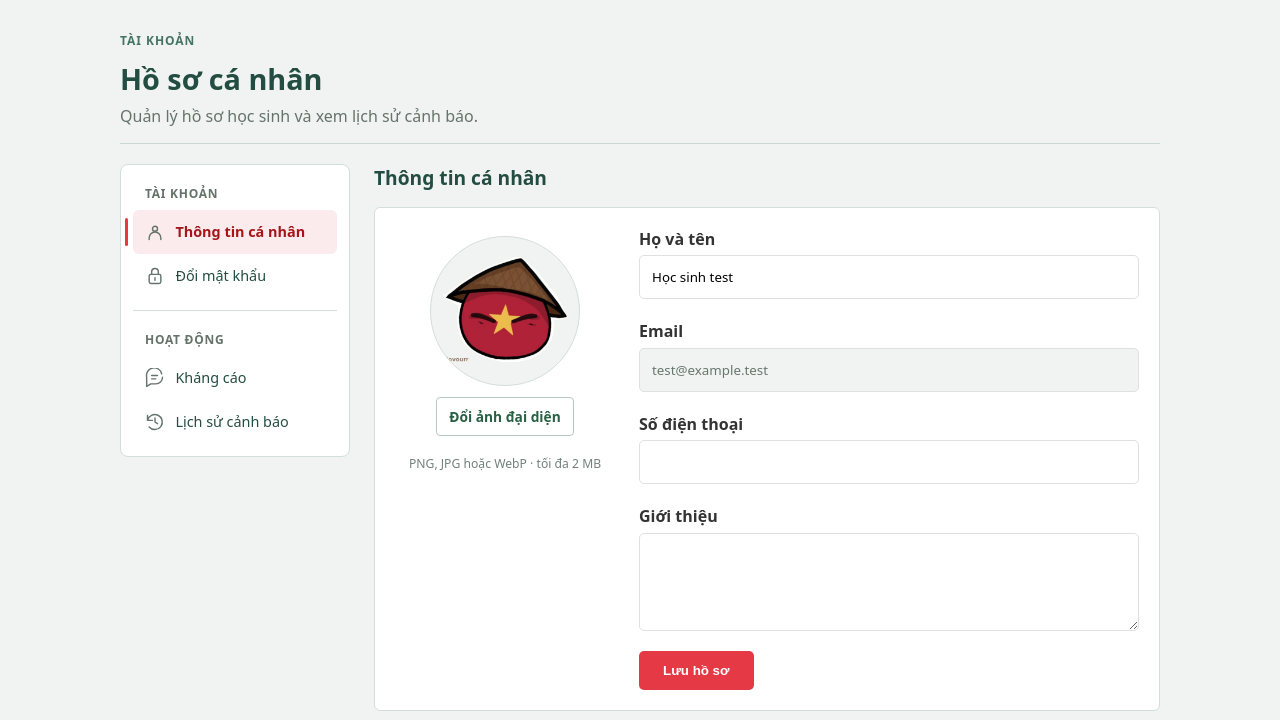
Test: profile renders independent accessible password fields and rejects mismatched confirmation
Expected: the field labelled "Họ và tên" holds "Học sinh test", left=639, top=255, right=1139, bottom=299
Click the button "Đổi mật khẩu". click: (235,276)
box: left=133, top=254, right=337, bottom=298
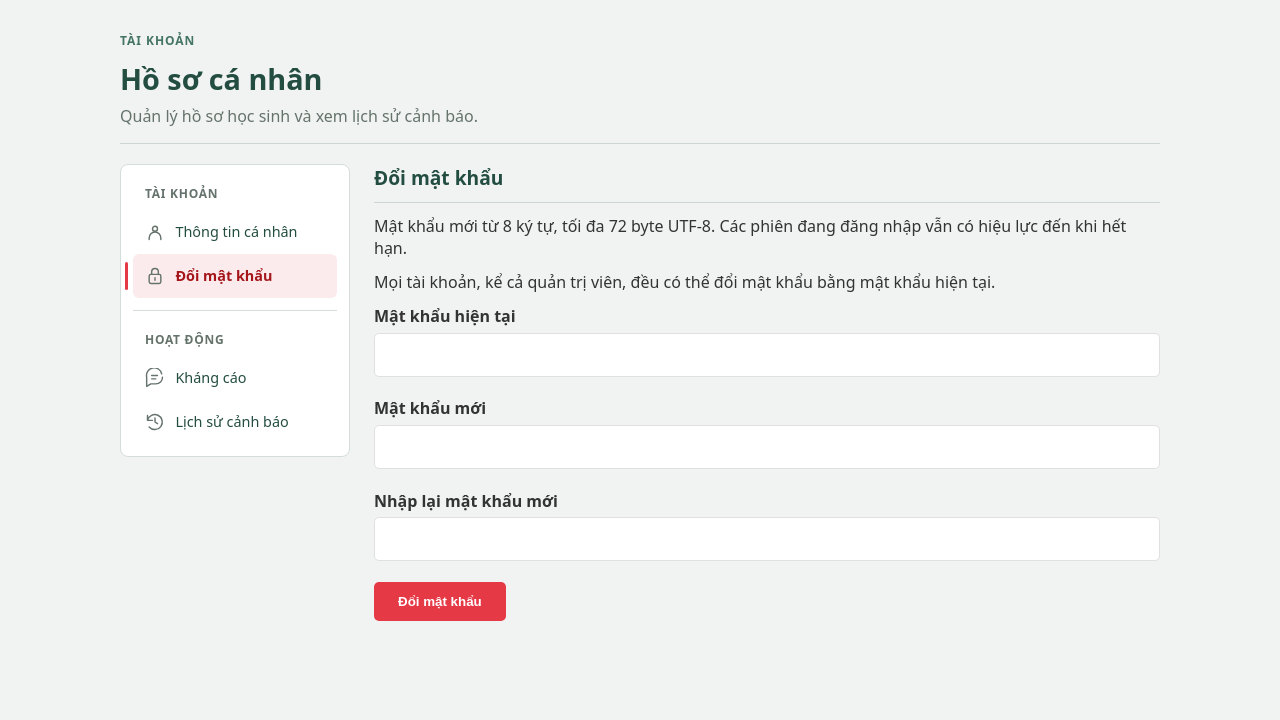
Type "Old-password!" into the password field named "currentPassword". click: (767,355)
box: left=374, top=333, right=1160, bottom=377
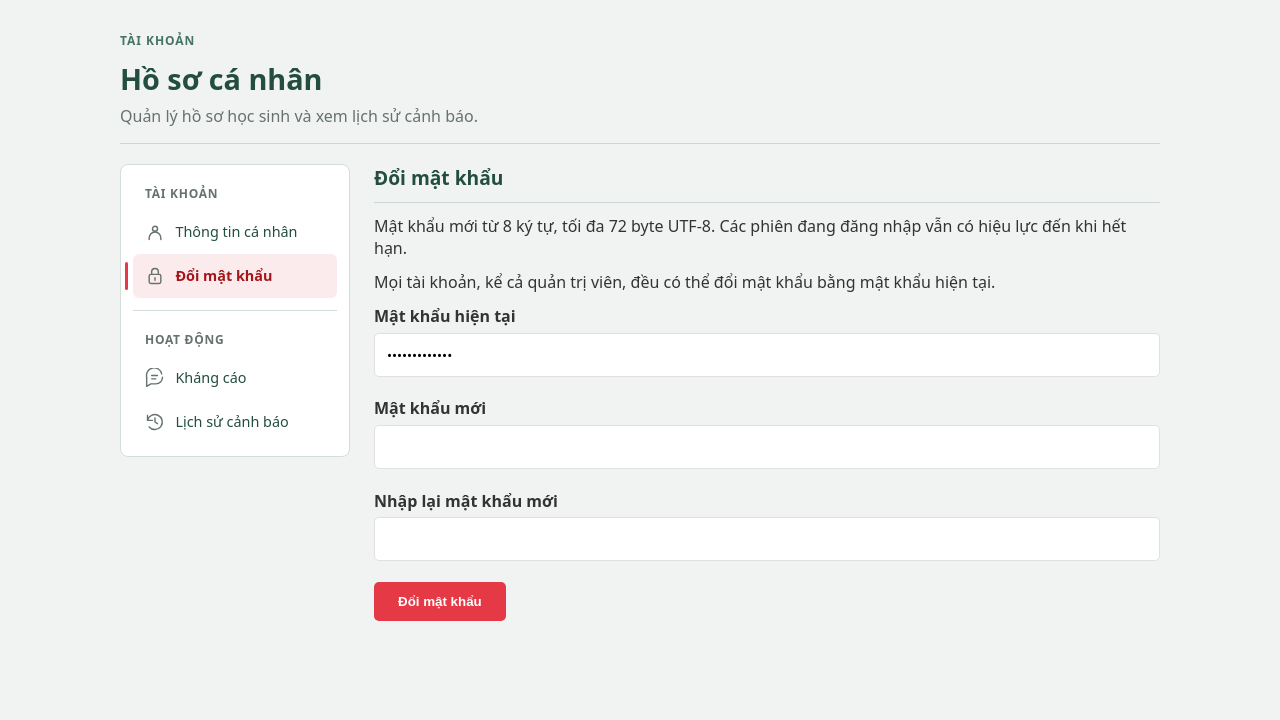
Type "New-password!" into the password field named "newPassword". click: (767,447)
box: left=374, top=425, right=1160, bottom=469
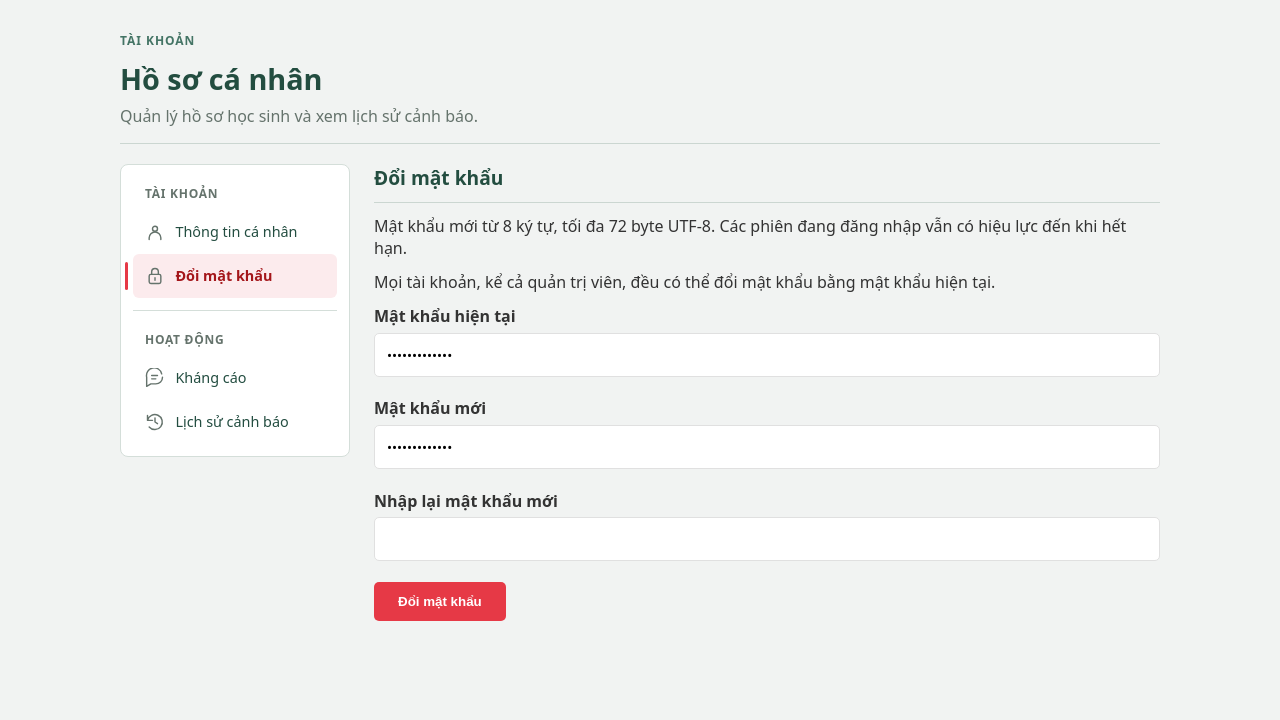
Type "Not matching!" into the password field labelled "Nhập lại mật khẩu mới". click: (767,539)
box: left=374, top=517, right=1160, bottom=561
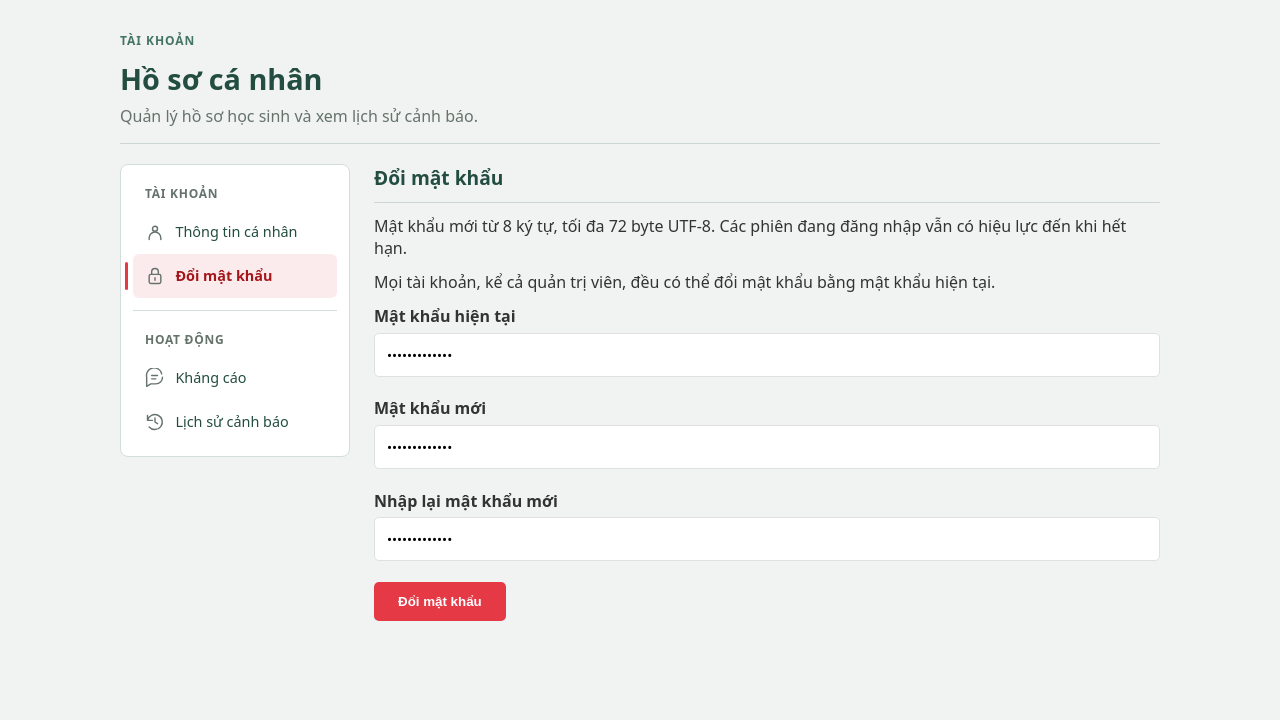
Submit the form named "Đổi mật khẩu", box left=374, top=305, right=1160, bottom=621
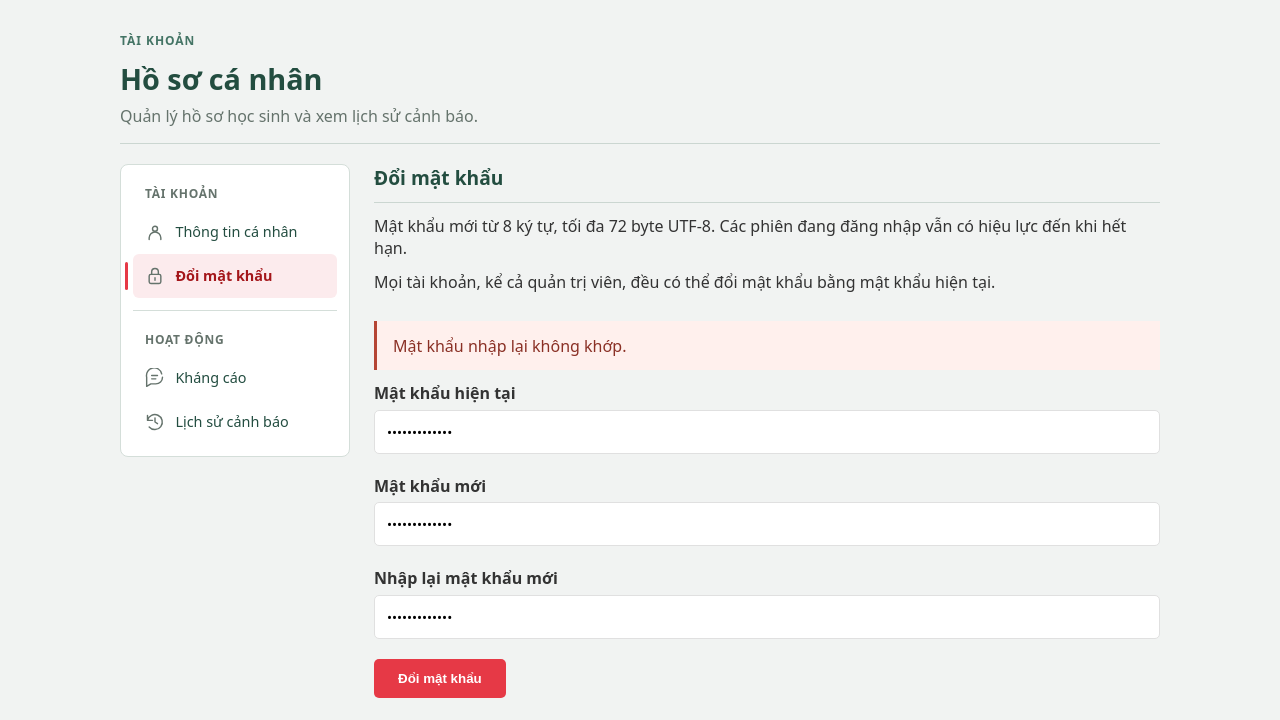
Result: the text "Mật khẩu nhập lại không khớp." is shown at left=374, top=321, right=1160, bottom=370
